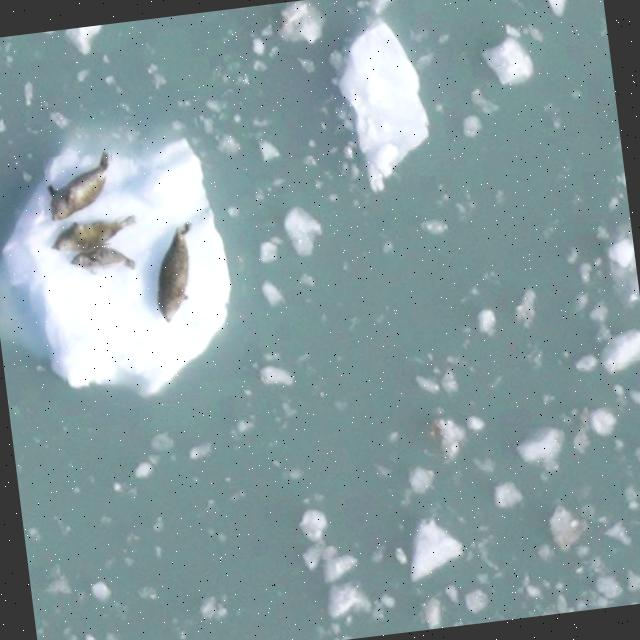seal: (34, 148, 127, 224), (154, 218, 195, 324), (47, 213, 141, 255), (66, 240, 137, 278)
